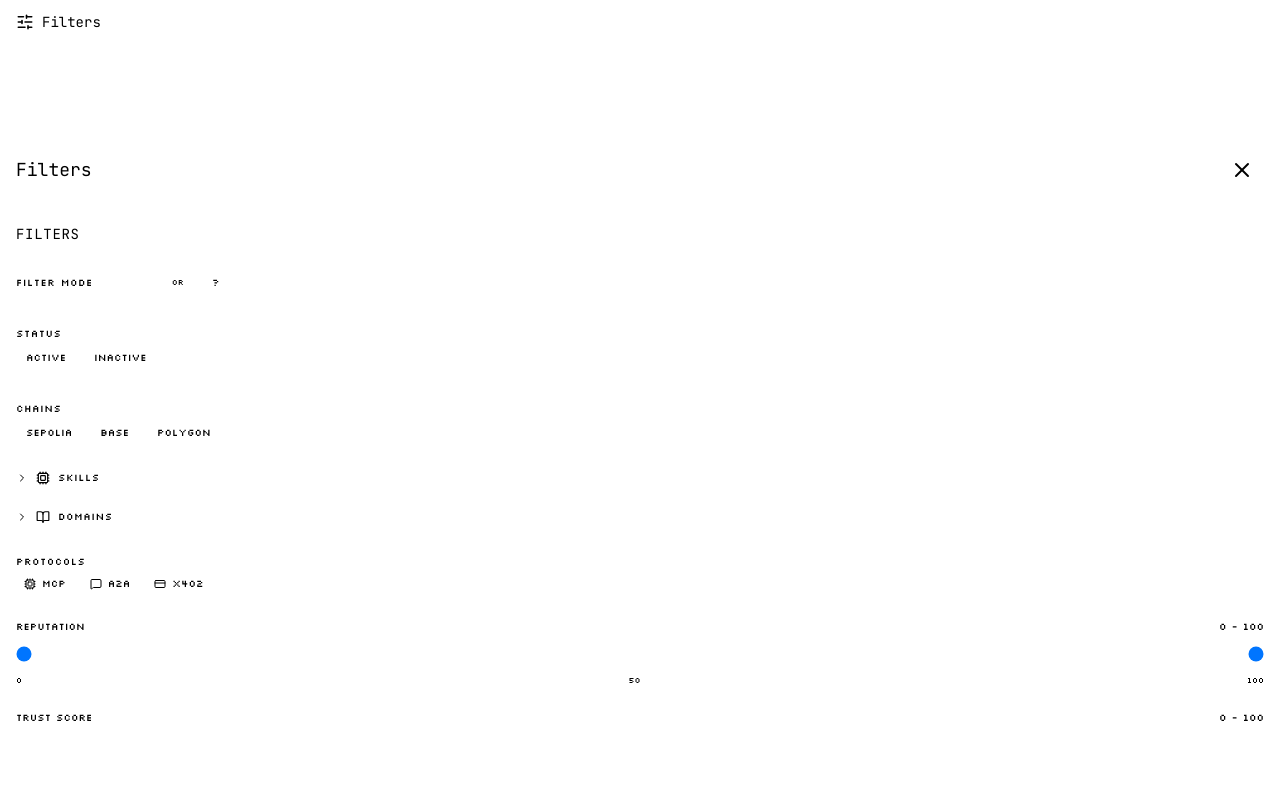
MobileFilterSheet › open/close behavior › shows backdrop when sheet is open
The image size is (1280, 800).
Click the button with test id "mobile-filter-sheet-trigger" at (58, 22), box x1=0 y1=0 x2=117 y2=44
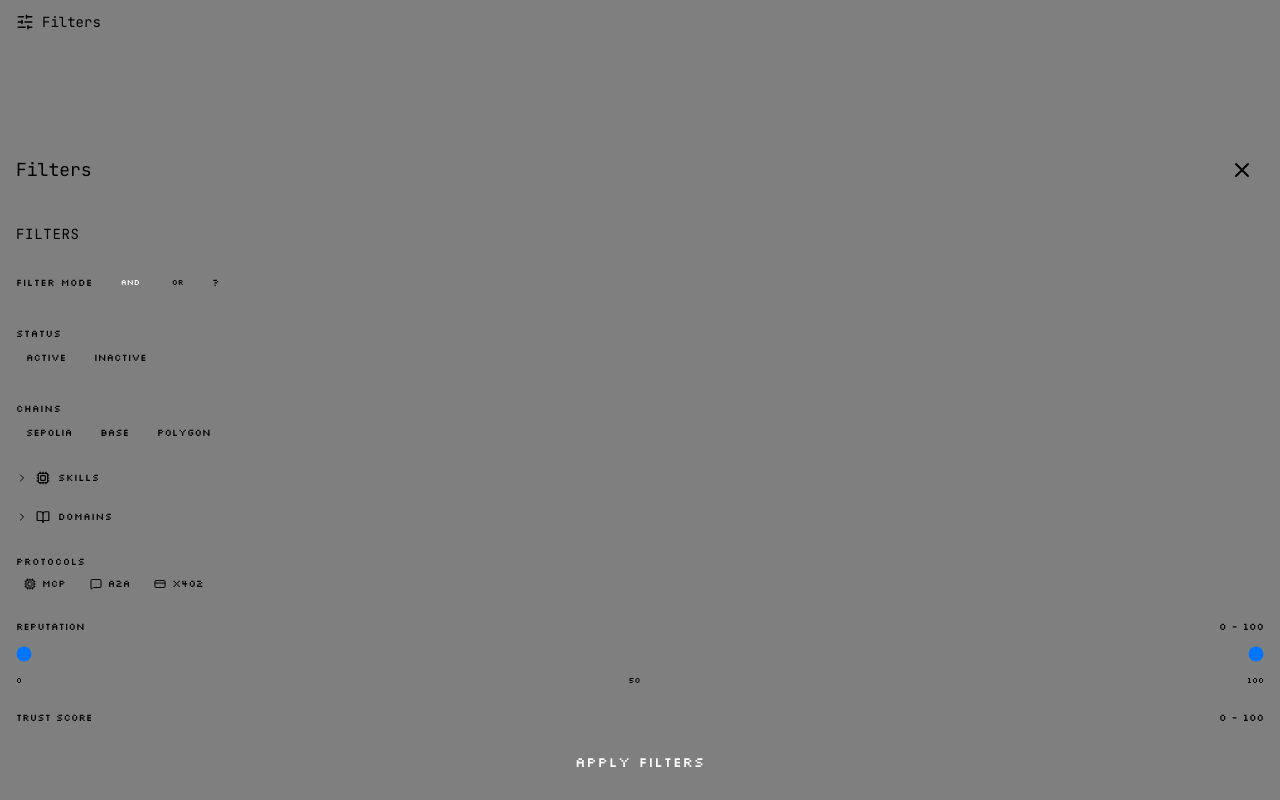
Now the element with test id "mobile-filter-sheet-backdrop" is shown
